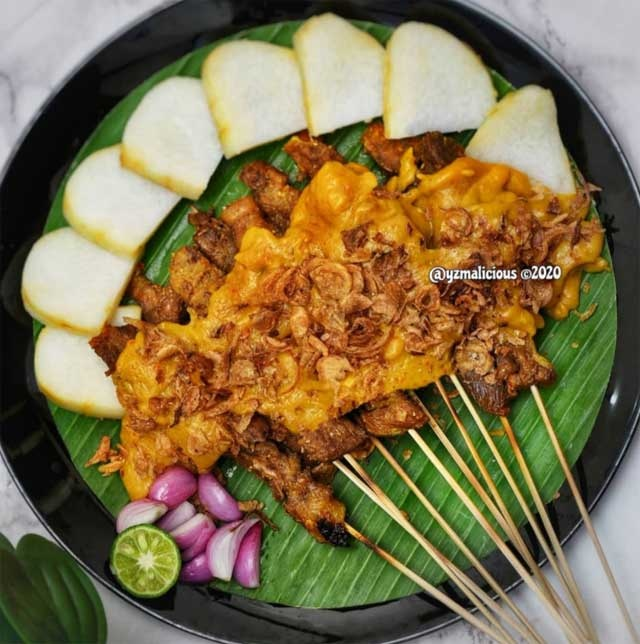sate: (83, 133, 612, 556)
